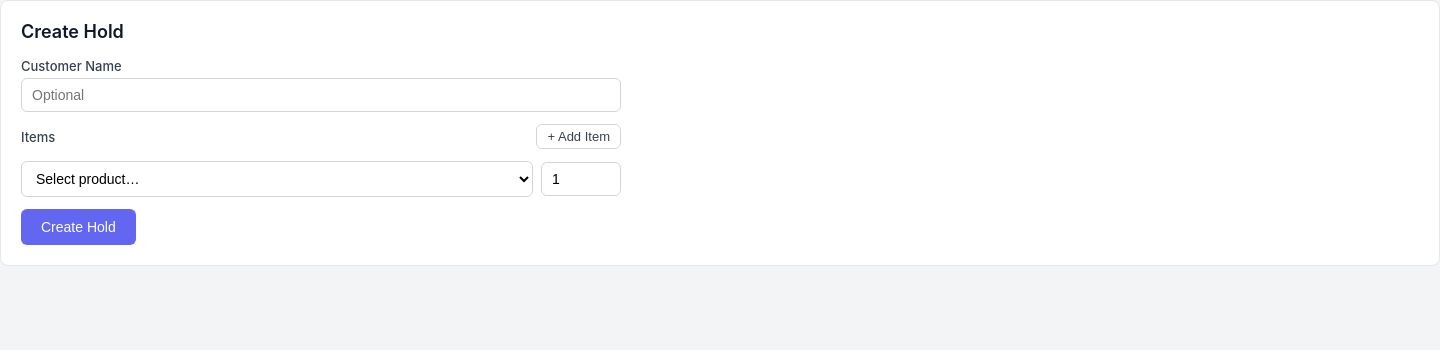
CreateHoldForm › shows ErrorBanner on 409
The width and height of the screenshot is (1440, 350).
Step 1. Select "Widget A (avail: 90)" in the dropdown → (277, 179), box [21, 161, 533, 197]
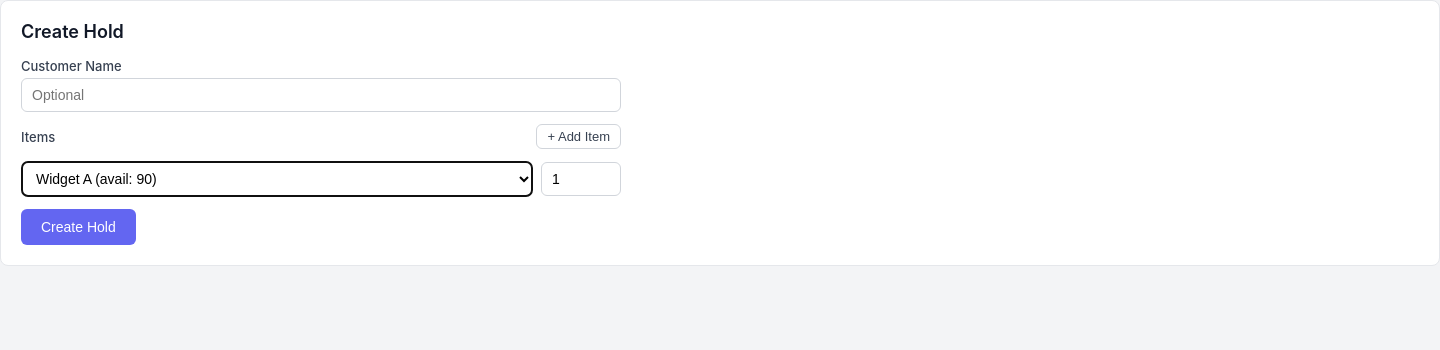
Step 2. Click the button "Create Hold" → click(78, 227), box [21, 209, 136, 245]
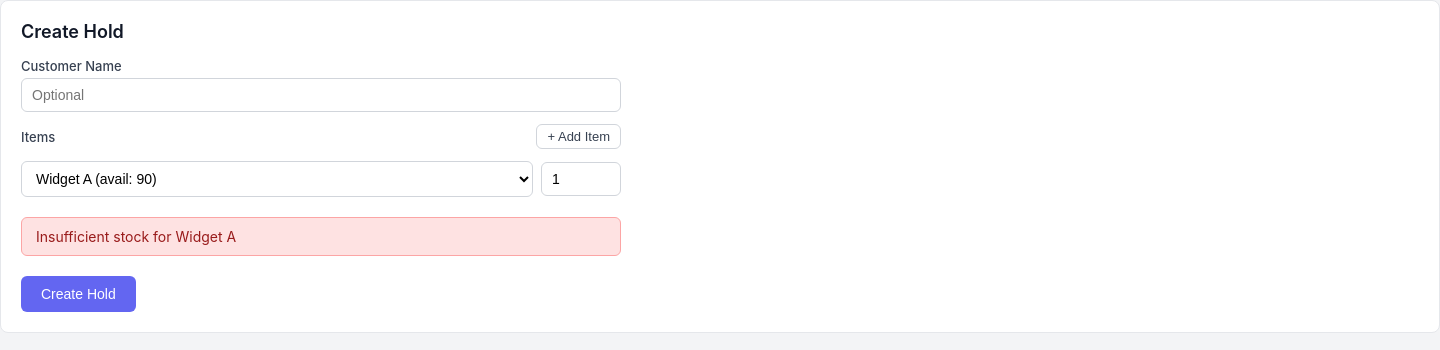
Expected: the message reads "Insufficient stock for Widget A", [36, 228, 236, 245]
